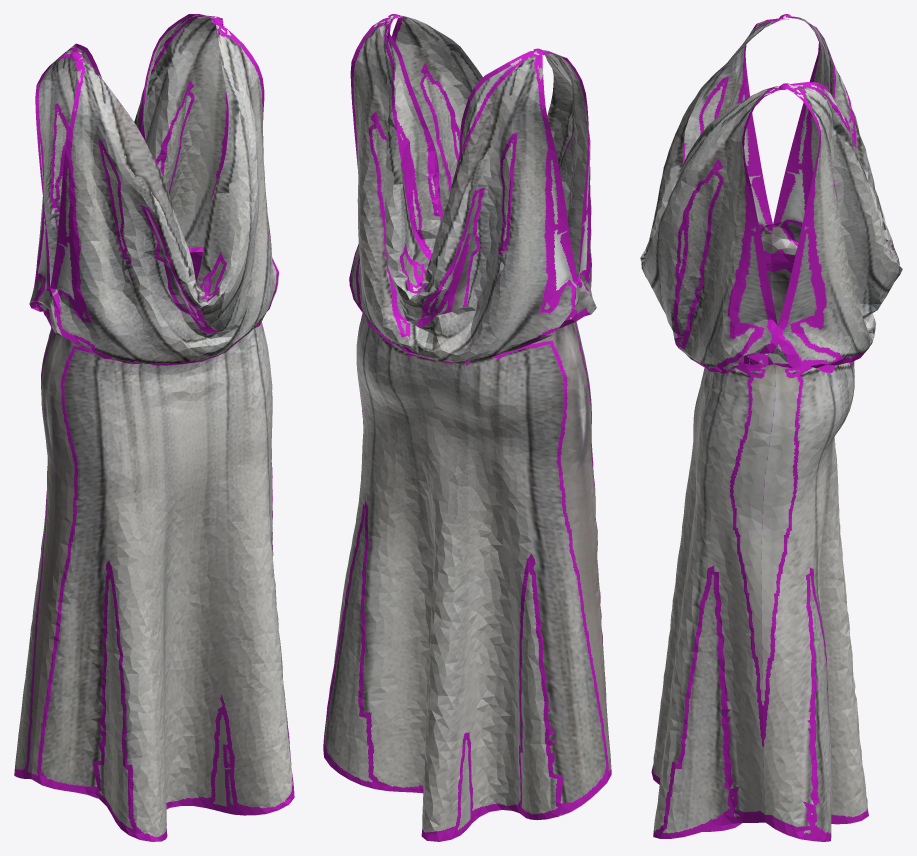
3 views of the same model, side by side, from view 1: azimuth 30°, elevation 25°; view 2: azimuth 150°, elevation 25°; view 3: azimuth 270°, elevation 25° (orthographic). The views are drawn at different scales.
Size of the model in its own units: 0.4203 by 1.17 by 0.3615.
1 material, 1 textured.
